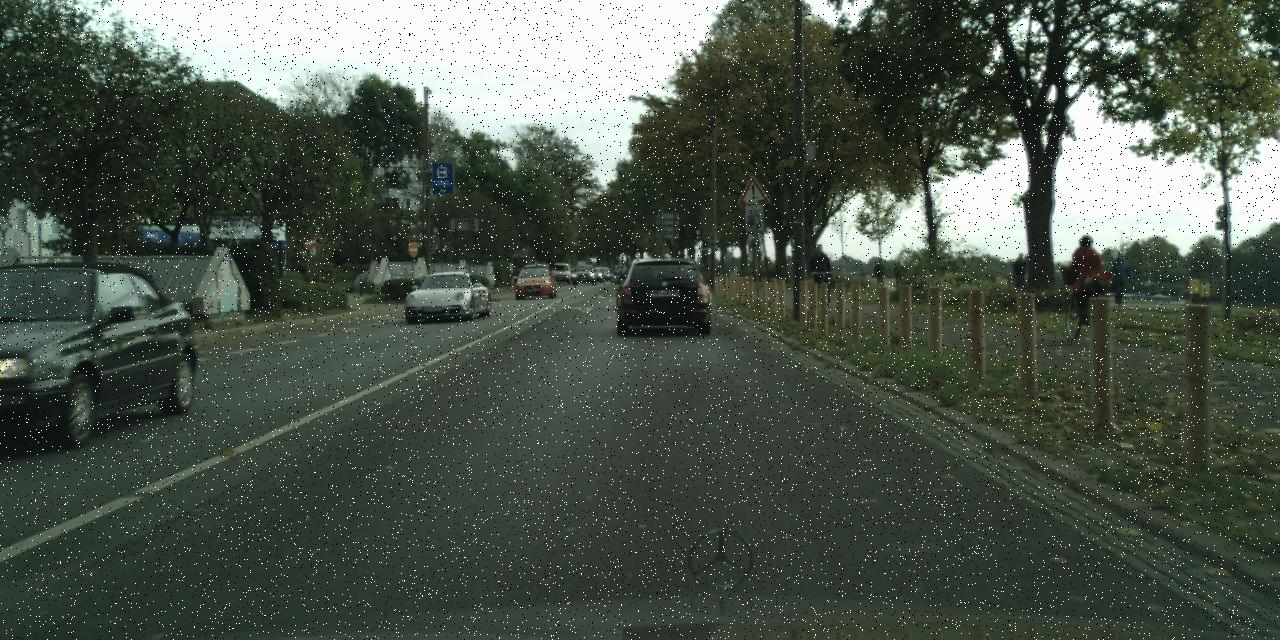ped: (1068, 234, 1104, 321), (807, 243, 832, 303), (1108, 252, 1130, 304), (1011, 252, 1030, 300), (873, 260, 885, 290), (894, 261, 904, 291)
